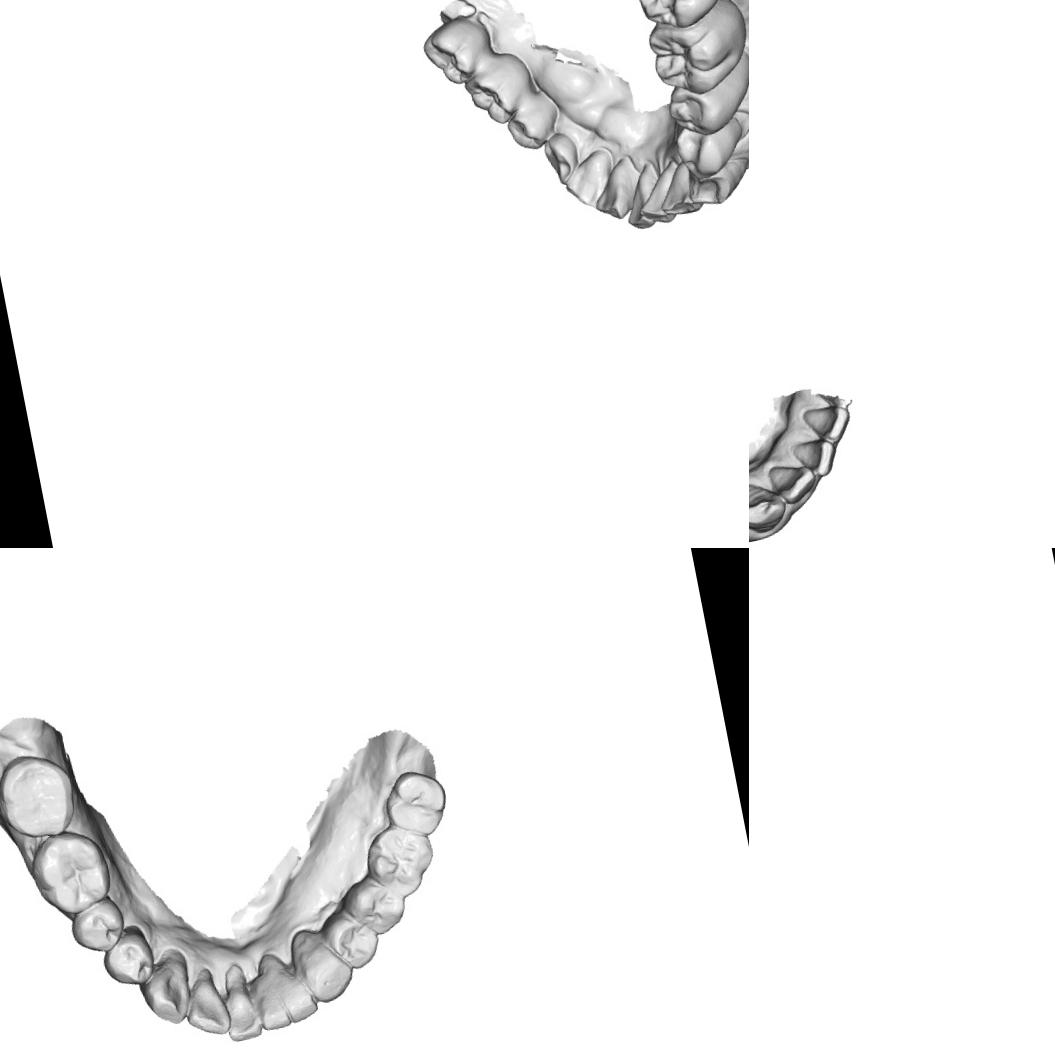canine: (283, 918, 359, 1010), (134, 952, 200, 1030), (558, 147, 620, 214), (683, 154, 749, 209), (749, 475, 789, 537)
incisor: (207, 958, 270, 1048), (177, 970, 237, 1042), (272, 960, 322, 1026), (249, 971, 297, 1036), (588, 168, 640, 223), (764, 458, 820, 508), (800, 400, 855, 448), (789, 434, 841, 482), (620, 185, 660, 232), (657, 181, 706, 218), (637, 190, 678, 228)
molar: (641, 0, 749, 102), (22, 824, 119, 924), (0, 745, 85, 846), (356, 818, 442, 904), (458, 45, 540, 130), (417, 11, 498, 90), (377, 762, 455, 844), (624, 0, 738, 36)
premolar: (659, 51, 749, 142), (338, 871, 414, 942), (670, 114, 748, 183), (319, 908, 386, 976), (96, 926, 161, 992), (65, 894, 131, 958), (501, 88, 564, 153), (539, 129, 583, 187)
